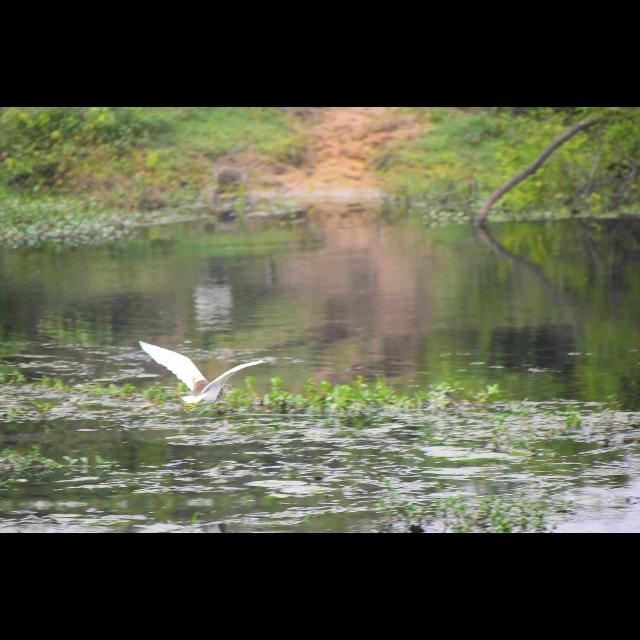heron: (137, 338, 271, 410)
